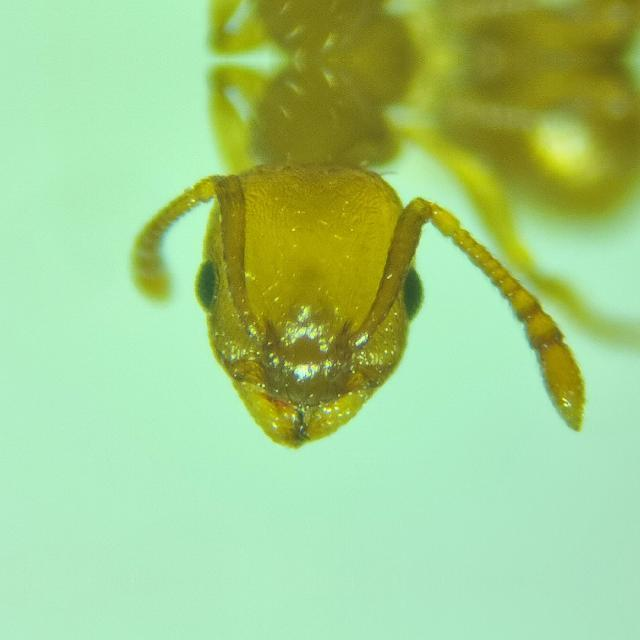Temnothorax: (76, 59, 640, 519)
